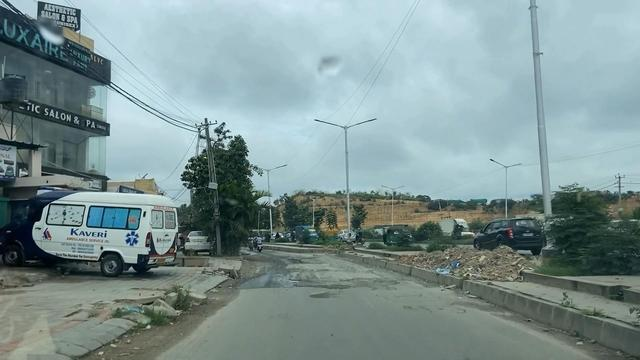RoadDamages: (239, 270, 347, 300), (356, 272, 399, 296)
